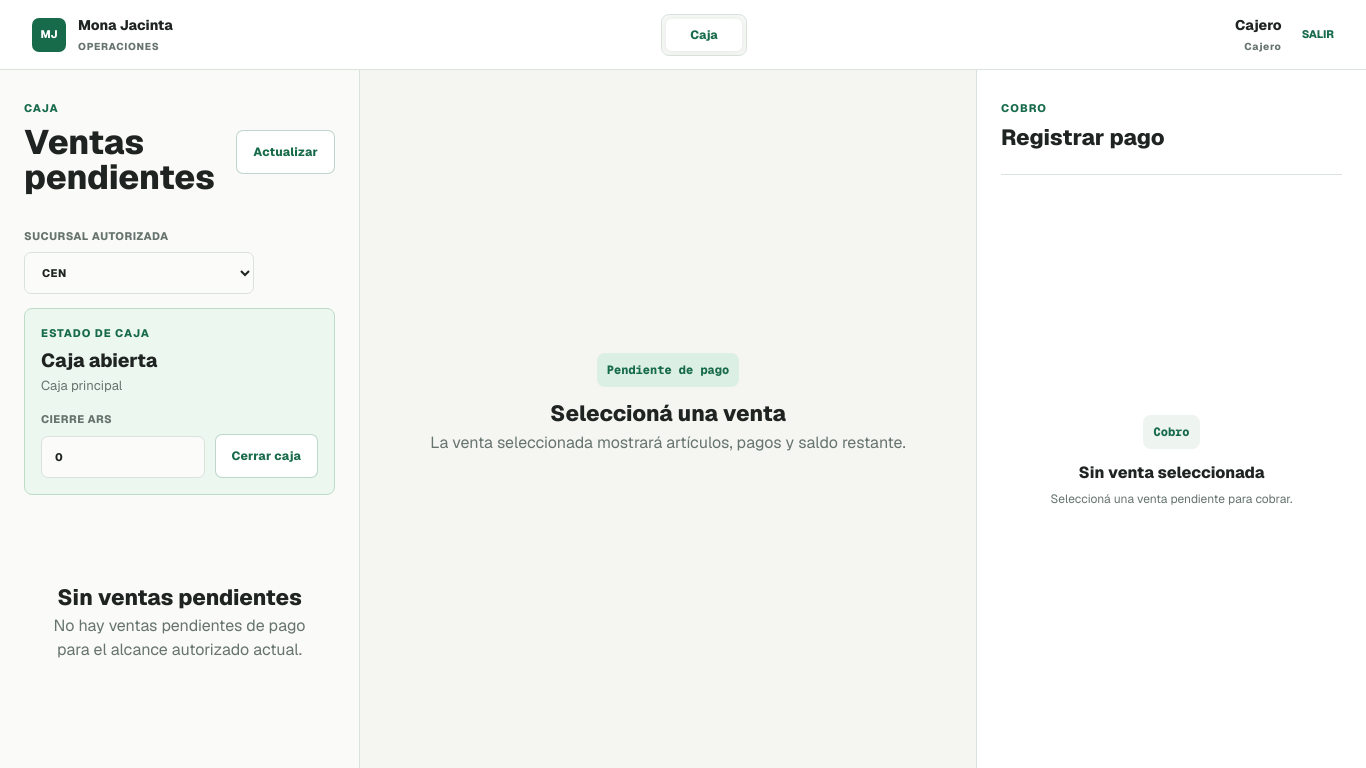
Test case: cash current-state answers never cross branches or overtake newer answers › R06 switching branch immediately hides the previous branch register and session
Expected: the text "Caja principal" is shown, [41, 377, 122, 394]
Expected: the heading "Caja abierta" is shown, [41, 348, 157, 373]
Step 1. Select "DEP" in the dropdown labelled "Sucursal autorizada" → (139, 273), box [24, 252, 254, 294]
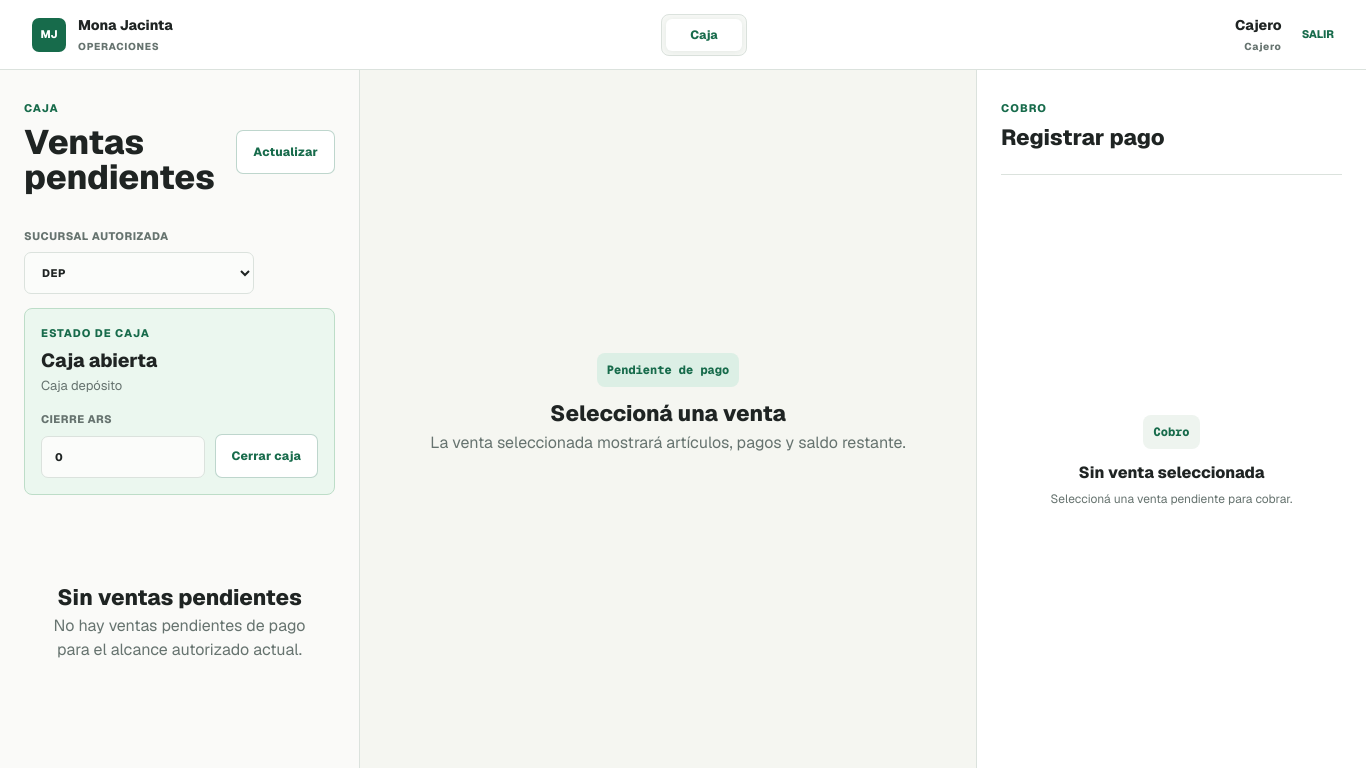
Expected: the heading "Caja abierta" is shown, [41, 348, 157, 373]
Result: the text "Caja principal" is gone
Result: the text "Caja depósito" is shown at [41, 377, 122, 394]
